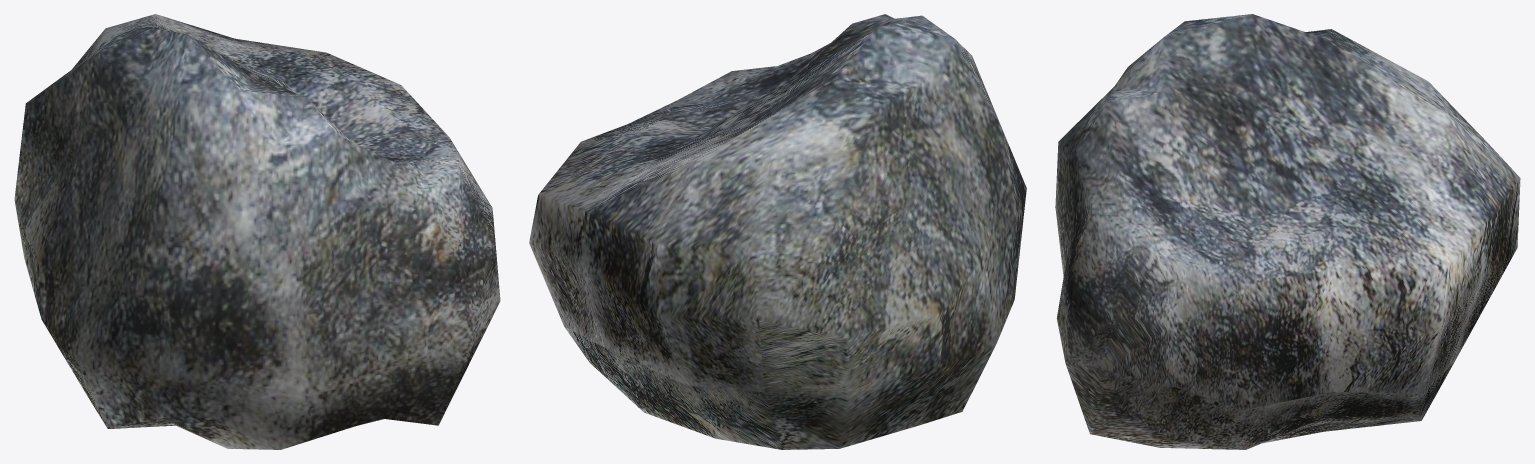
The model's file is Rock_02.FBX.
3 views of the same model, side by side, from view 1: azimuth 30°, elevation 25°; view 2: azimuth 150°, elevation 25°; view 3: azimuth 270°, elevation 25° (orthographic). The views are drawn at different scales.
Parts seen in each view (by area): view 1: Rock_01; view 2: Rock_01; view 3: Rock_01.
Boxes of the visible parts, left/top/right/bottom form: Rock_01: left=14, top=14, right=500, bottom=449; Rock_01: left=529, top=14, right=1026, bottom=449; Rock_01: left=1055, top=14, right=1520, bottom=449.
Bounding box in the file's own units: 71.09 × 68.91 × 78.97.
